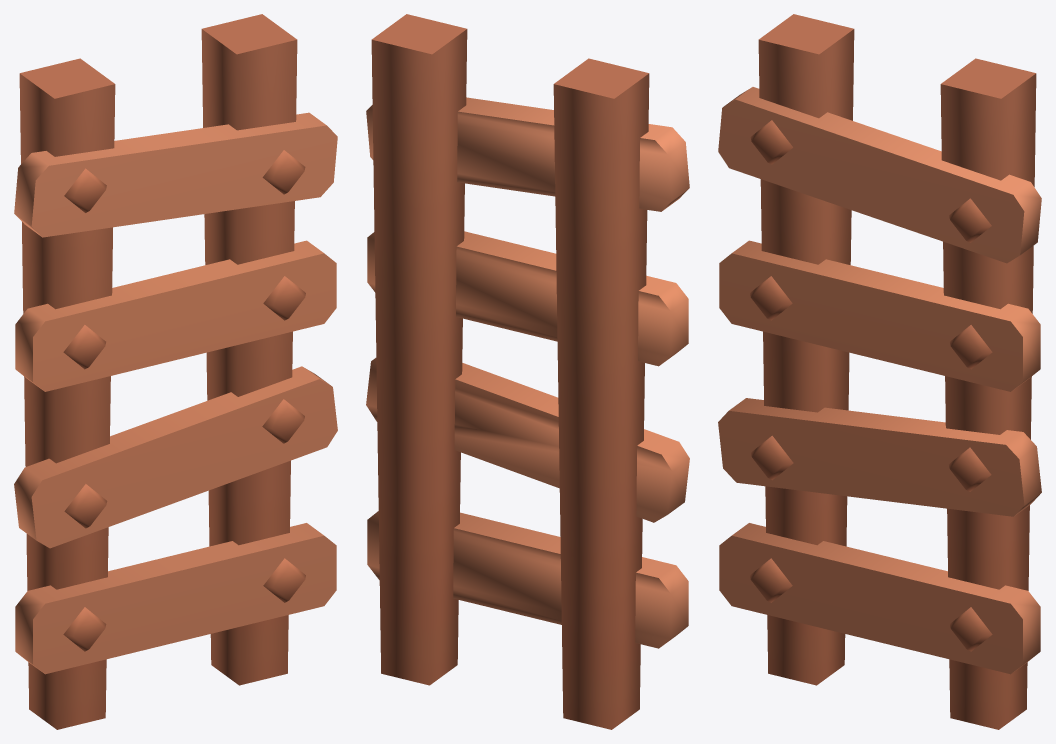
The model's file is stege.glb.
3 renders of one model, left to right at view 1: azimuth 30°, elevation 25°; view 2: azimuth 150°, elevation 25°; view 3: azimuth 330°, elevation 25°, orthographic.
Parts seen in each view (by area): view 1: ladder; view 2: ladder; view 3: ladder.
Boxes of the visible parts, x1,y1,x2,y2 form: ladder: (14,14,337,729); ladder: (366,14,689,729); ladder: (718,14,1041,729).
Size of the model in its own units: 0.5048 by 1 by 0.1375.
1 material, 1 textured.
